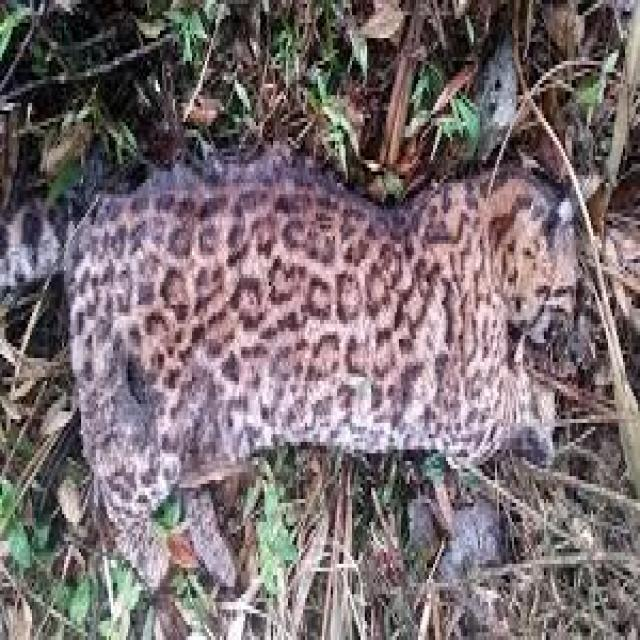Jaguar: (23, 152, 584, 534)
